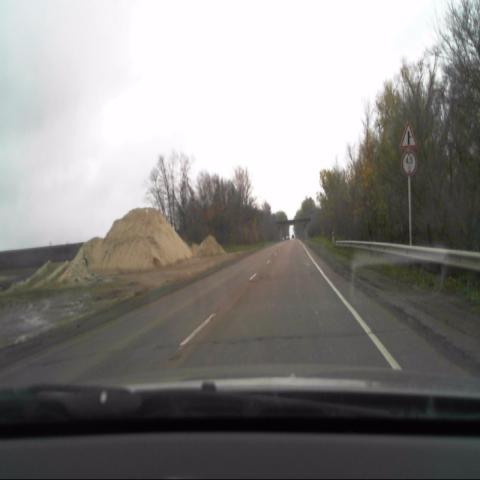3_13: (401, 150, 417, 175)
